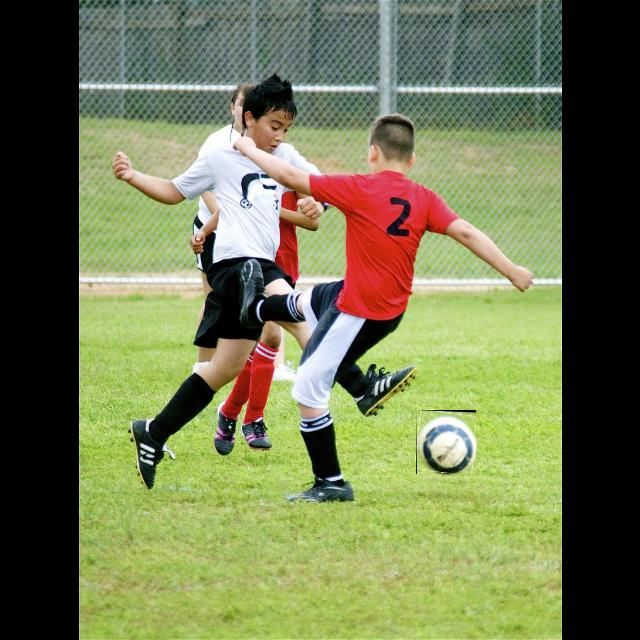Football: (416, 410, 476, 474)
